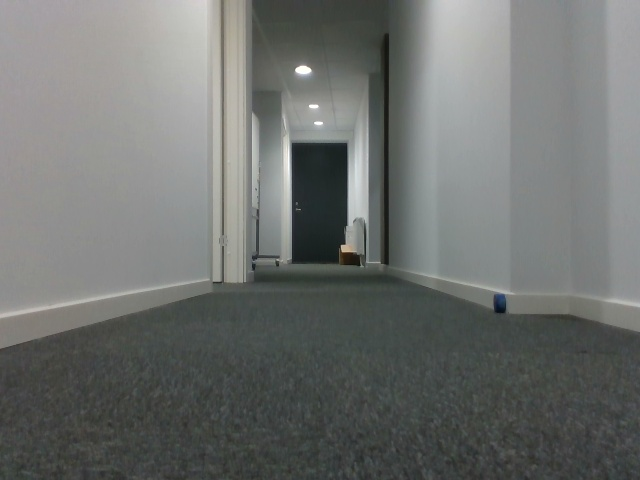alfa: (491, 292, 509, 316)
